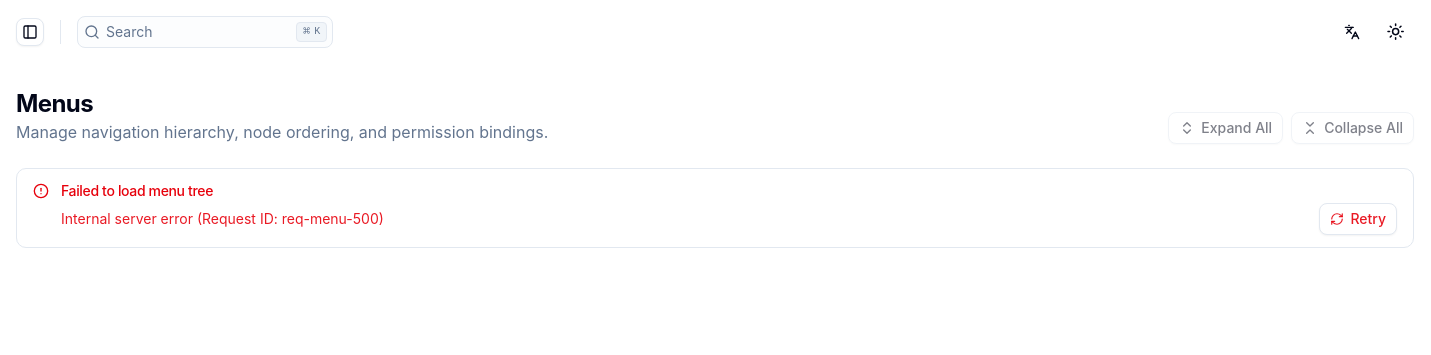
Scenario: menus feature › renders load error without empty table, recovers via retry, and supports expand/collapse
Later steps or results of the test are not shown.
Click the button "Retry". click: [1358, 219]
box: x1=1319 y1=203 x2=1397 y2=235
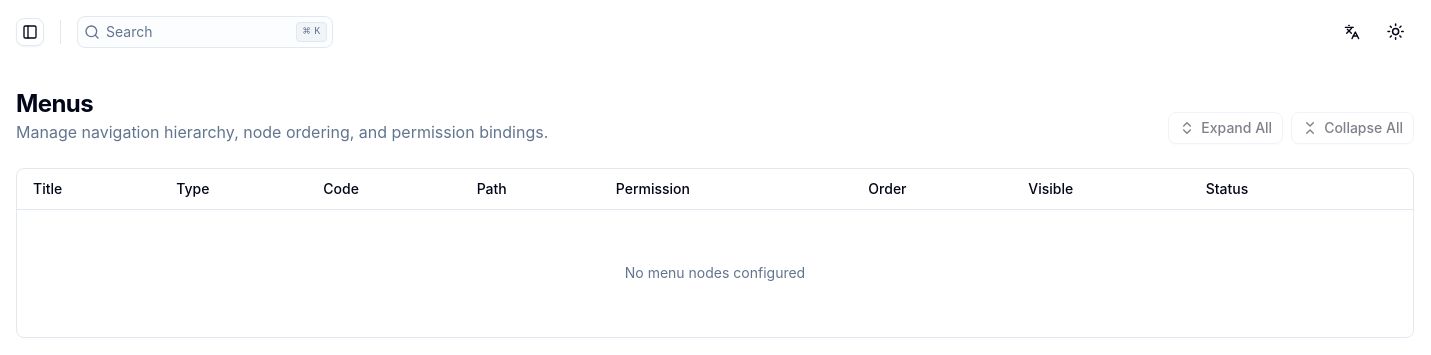
Check: the button "Expand All" is disabled, box x1=1168 y1=112 x2=1283 y2=144
Check: the text "No menu nodes configured" is shown, box x1=17 y1=209 x2=1413 y2=337
